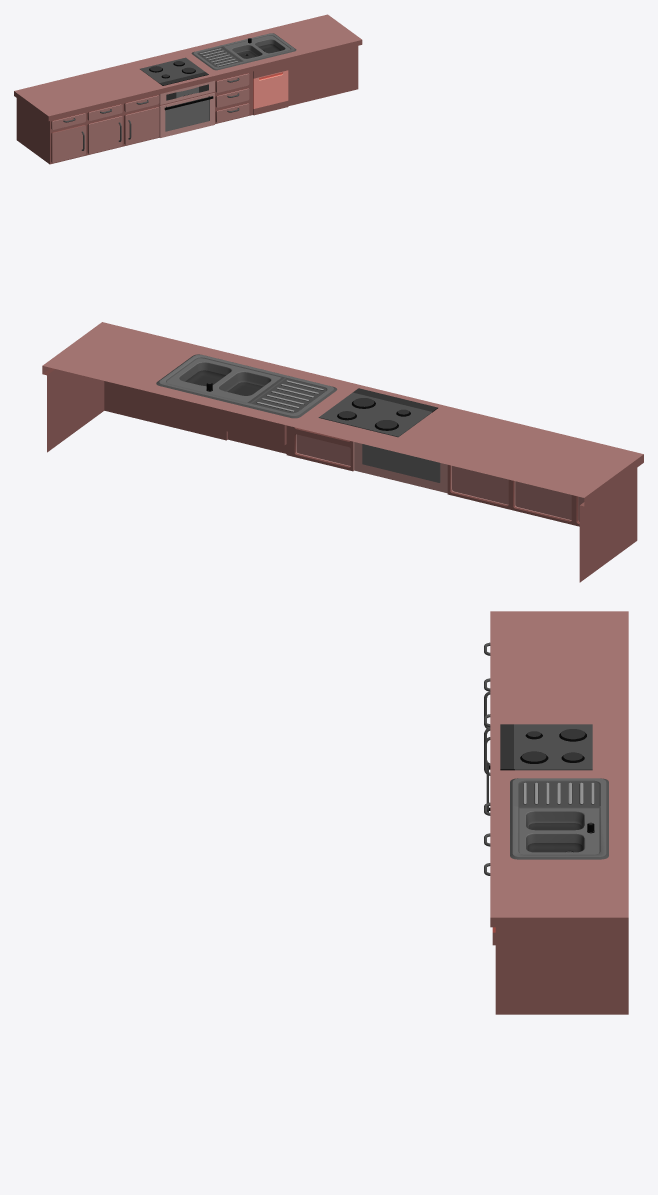
Rendered from 3d_KitchenTable 1.fbx.
3 renders of one model, top to bottom at view 1: azimuth 30°, elevation 25°; view 2: azimuth 150°, elevation 25°; view 3: azimuth 270°, elevation 25°, orthographic. The views are drawn at different scales.
Parts seen in each view (by area): view 1: 3d_KitchenTable, 3d_Oven, 3d_Sink, 3d_Dishwasher, 3d_CookingPlate; view 2: 3d_KitchenTable, 3d_Sink, 3d_CookingPlate, 3d_Oven; view 3: 3d_KitchenTable, 3d_Sink, 3d_CookingPlate.
Boxes of the visible parts, box(x1,y1,x2,y2) form: 3d_KitchenTable: box(14, 14, 362, 164); 3d_Oven: box(159, 80, 214, 137); 3d_Sink: box(191, 33, 296, 70); 3d_Dishwasher: box(253, 70, 288, 108); 3d_CookingPlate: box(140, 57, 208, 85); 3d_KitchenTable: box(42, 322, 643, 582); 3d_Sink: box(156, 354, 337, 418); 3d_CookingPlate: box(318, 388, 437, 437); 3d_Oven: box(353, 441, 447, 493); 3d_KitchenTable: box(484, 611, 628, 1014); 3d_Sink: box(510, 778, 608, 859); 3d_CookingPlate: box(500, 724, 592, 770).
Size of the model in its own units: 5.6 by 0.6093 by 3.03.
